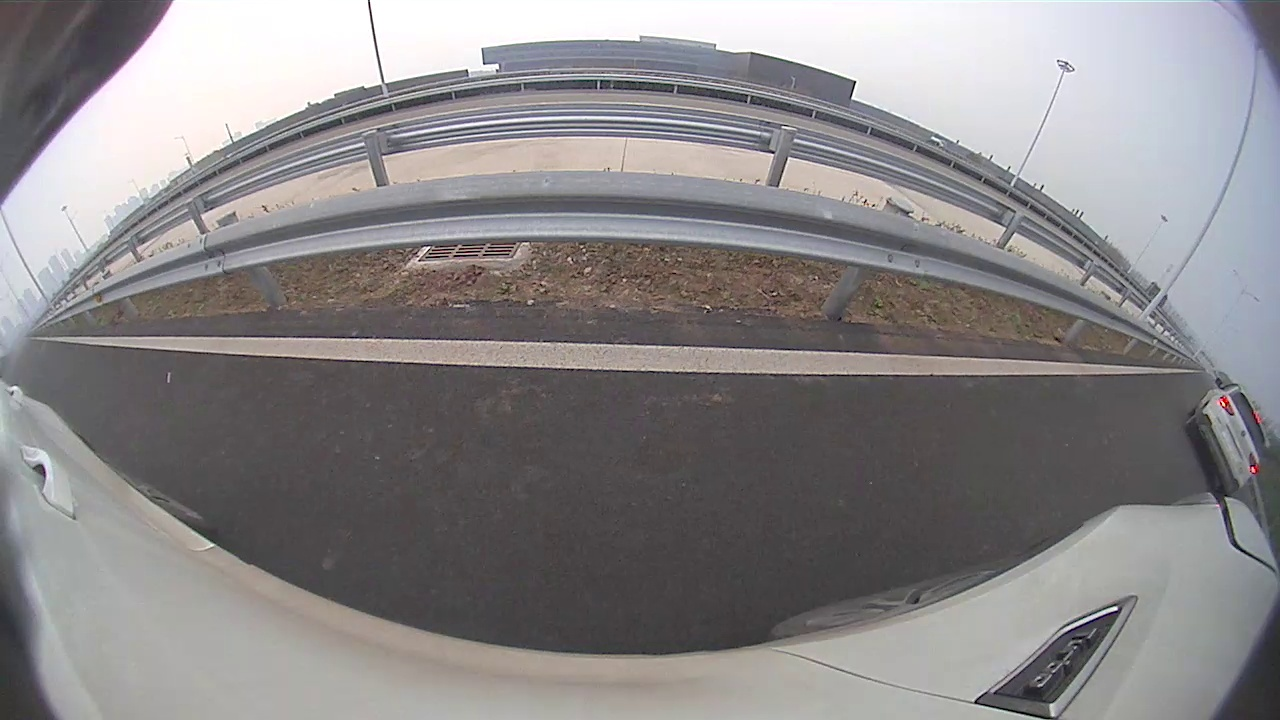car: (1184, 378, 1270, 497)
